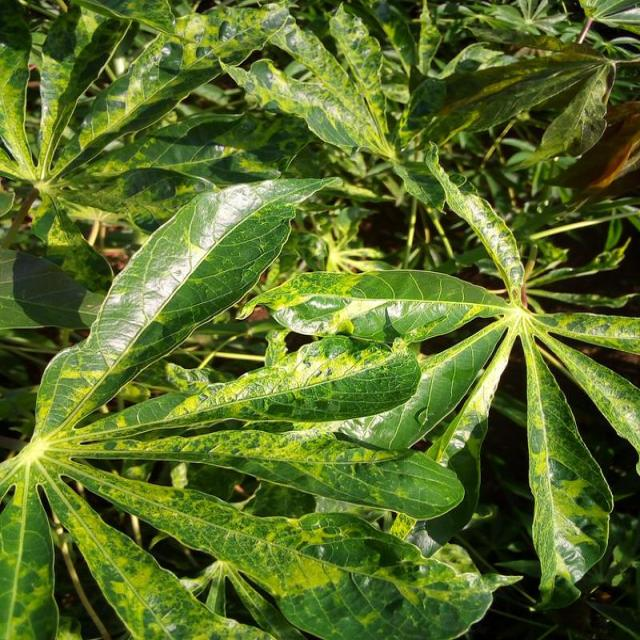cassava leaf: (0, 1, 638, 638), (32, 172, 342, 440)
